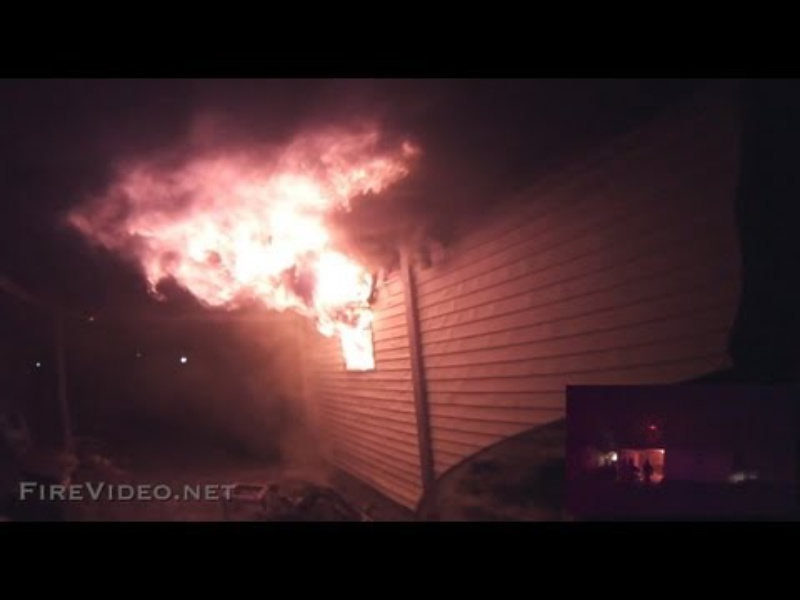fire: (55, 121, 382, 339)
